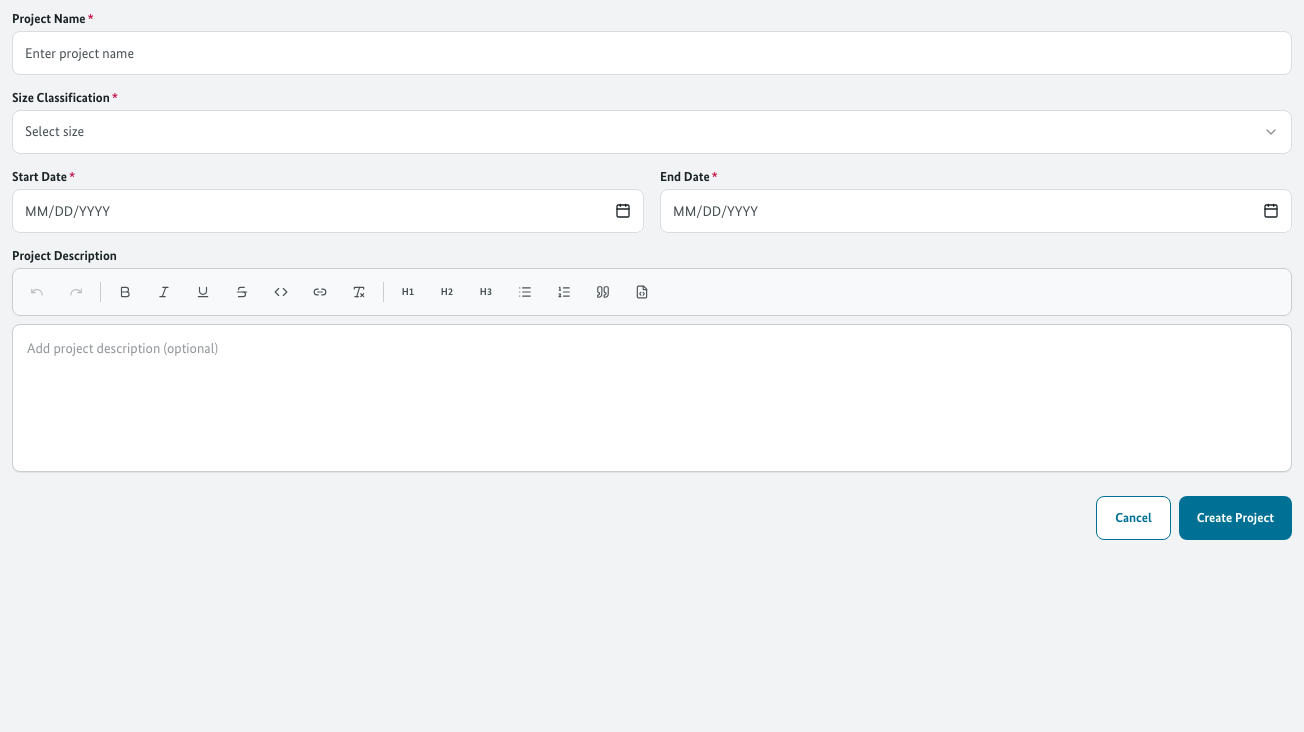
it: CreateProjectForm › shows inline error when submitted without size classification
Step 1. Type "My Project" into the field labelled "Project Name*" → (652, 53), box [12, 31, 1292, 75]
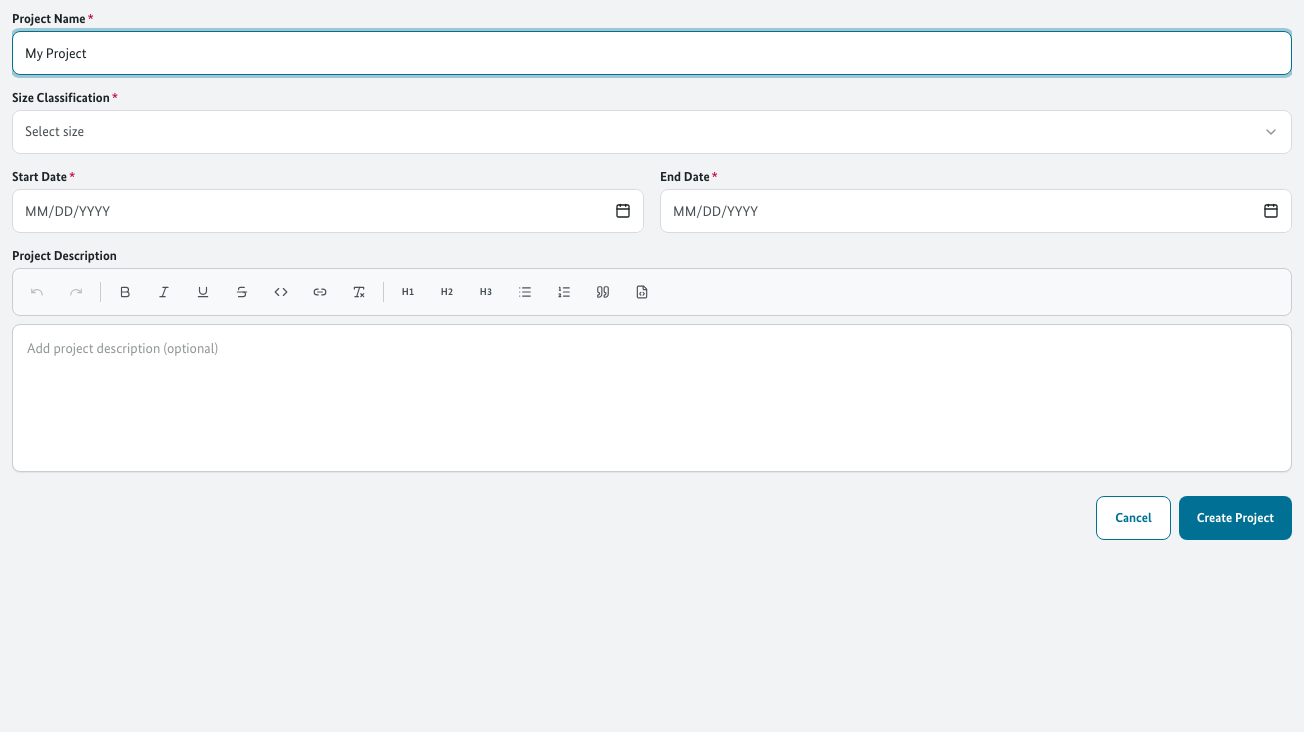
Step 2. Click the button "Create Project" → click(1235, 518), box [1179, 496, 1292, 540]
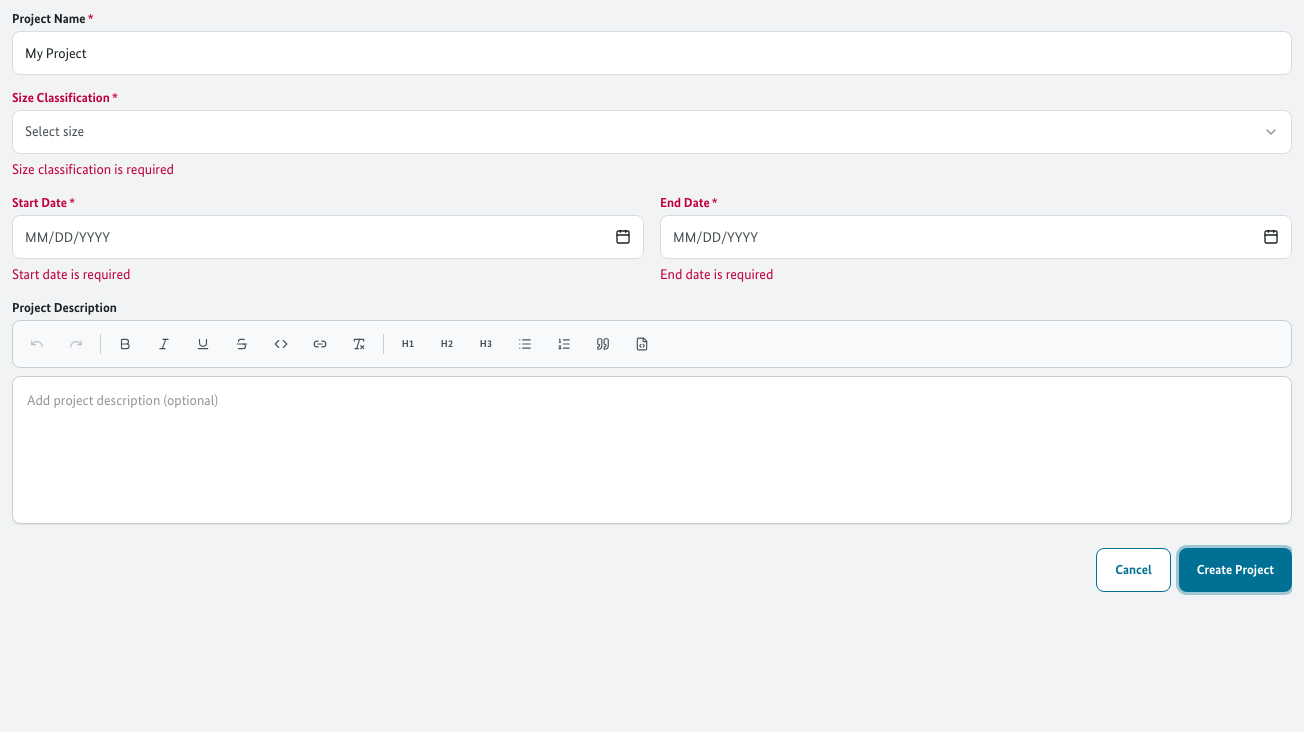
Result: the text "Size classification is required" is shown at [12, 161, 174, 178]
